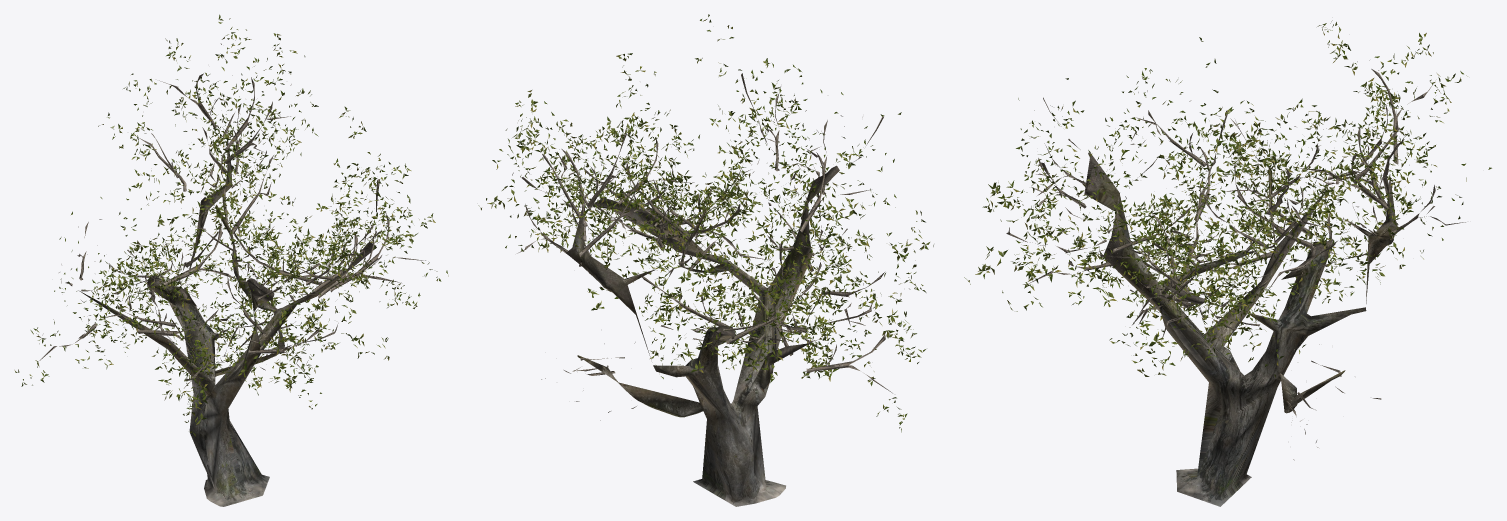
File: canopy-tree-01.glb
The picture shows the model from 3 angles, left to right: view 1: azimuth 30°, elevation 25°; view 2: azimuth 150°, elevation 25°; view 3: azimuth 270°, elevation 25°; orthographic projection. The views are drawn at different scales.
Visible parts, largest first — view 1: island_tree_01_LOD0; view 2: island_tree_01_LOD0; view 3: island_tree_01_LOD0.
Boxes of the visible parts, x1,y1,x2,y2 form: island_tree_01_LOD0: (14, 14, 448, 506); island_tree_01_LOD0: (478, 14, 933, 506); island_tree_01_LOD0: (964, 20, 1491, 506).
Size of the model in its own units: 4.7 by 4.98 by 4.79.
Materials: 3 (3 with a texture image).
